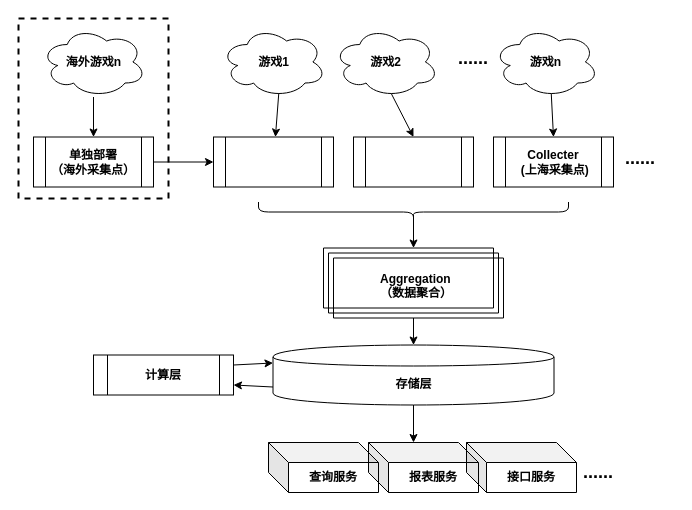
This 692x510 diagram has some shape labels left out. The centre of each missing label's shape, as x and y in pixels:
"Collecter (北京采集点)" goes at point (273, 161).
"Collecter (武汉采集点)" goes at point (413, 161).
